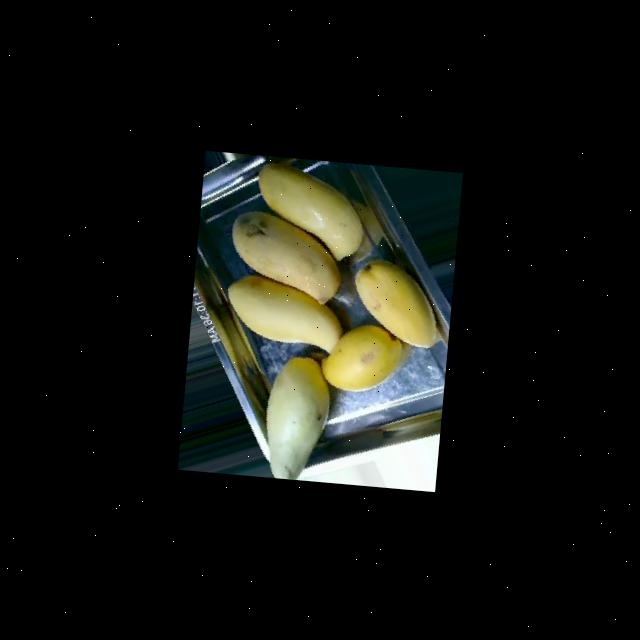Mango: (250, 161, 368, 262), (225, 208, 345, 306), (222, 272, 346, 354), (260, 353, 332, 481)
